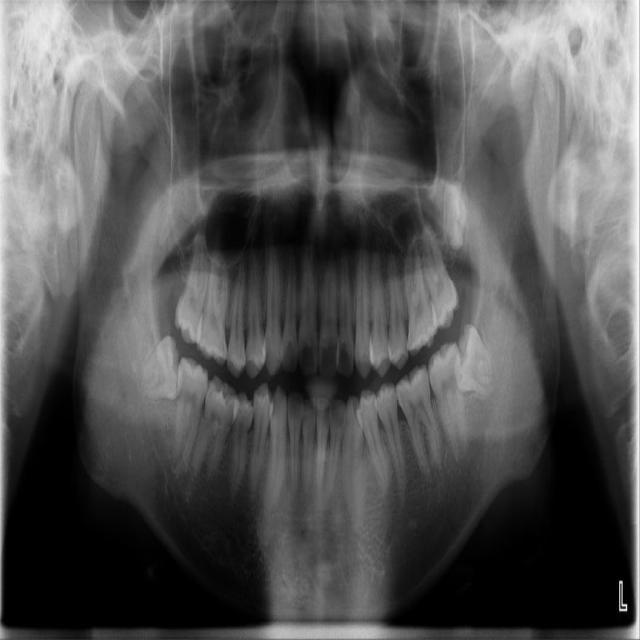BioHorizons Implant: (414, 222, 464, 331)
BioLife Implant: (441, 179, 467, 250)
Biomet 3i Implant: (443, 319, 500, 404)
Blue Sky Bio Implant: (426, 341, 469, 463)
Caries: (171, 235, 213, 346)
Implant: (172, 357, 210, 464)
Keystone Dental Implant: (135, 330, 196, 409)
